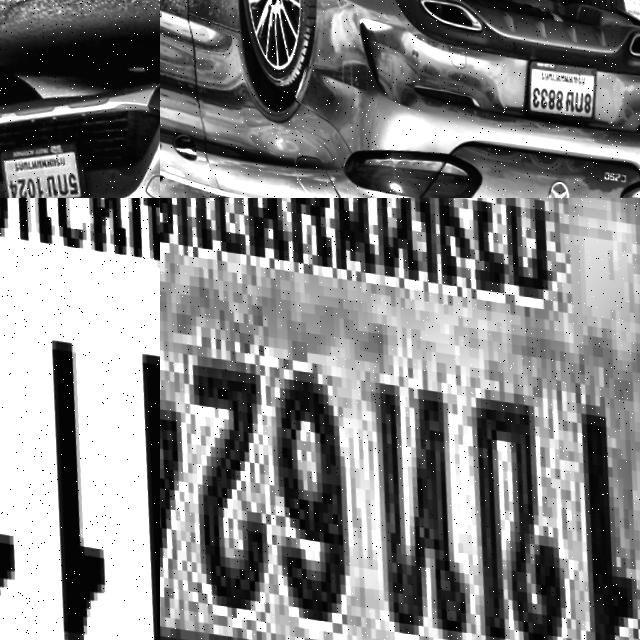license-plate: (160, 198, 640, 640), (0, 198, 160, 640), (0, 123, 85, 198), (514, 47, 596, 117)
